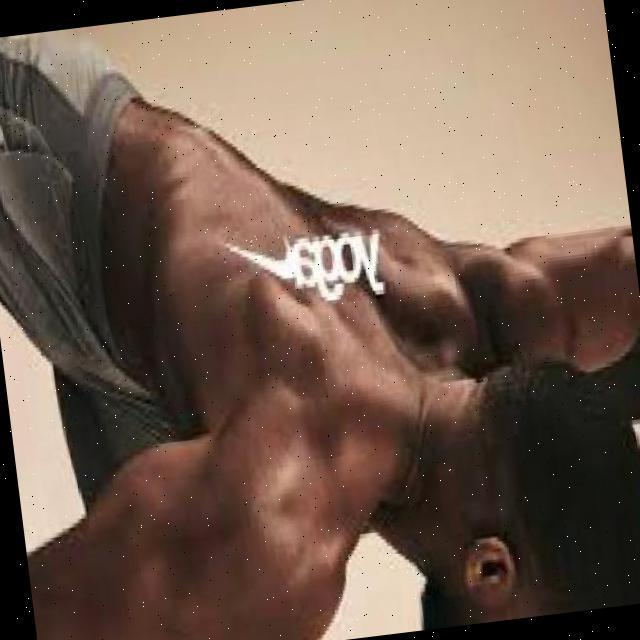Nike: (221, 224, 297, 281)
